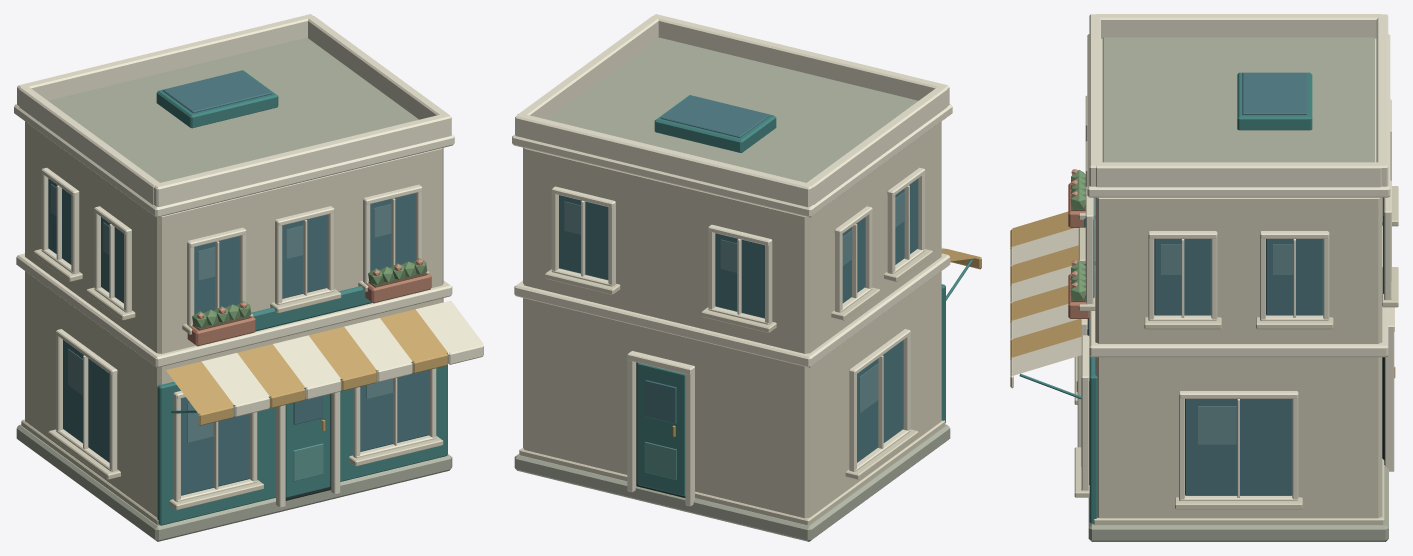
File: building_corner_shop.glb
3 views of the same model, side by side, from view 1: azimuth 30°, elevation 25°; view 2: azimuth 150°, elevation 25°; view 3: azimuth 270°, elevation 25° (orthographic). The views are drawn at different scales.
Visible parts, largest first — view 1: building_corner_shop; view 2: building_corner_shop; view 3: building_corner_shop.
Boxes of the visible parts, x1,y1,x2,y2 form: building_corner_shop: (14, 14, 483, 541); building_corner_shop: (512, 14, 981, 541); building_corner_shop: (1010, 14, 1398, 541).
Size of the model in its own units: 4.8 by 5.21 by 4.87.
